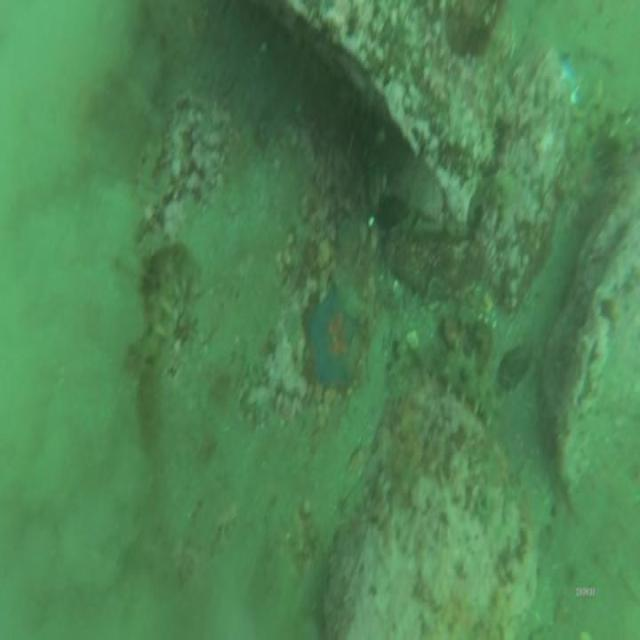holothurian: (130, 237, 202, 354), (434, 341, 501, 433), (566, 85, 630, 166)
starfish: (301, 282, 360, 391)
